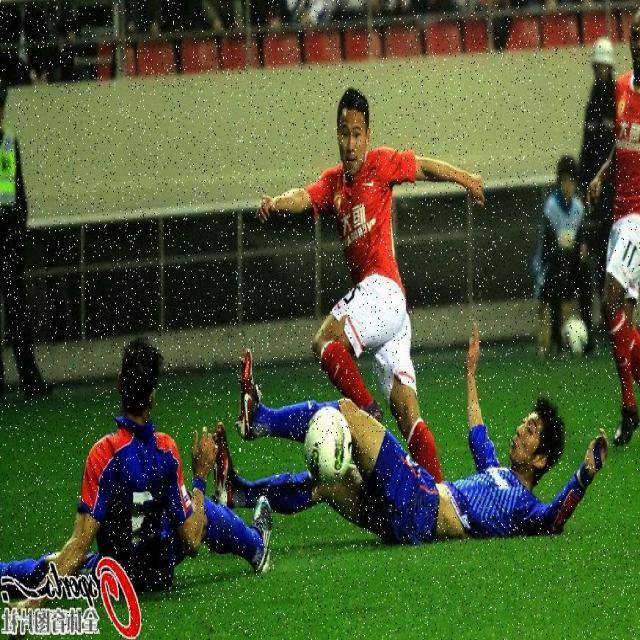fall: (289, 383, 579, 560)
